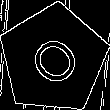O_SE: (20, 26, 87, 92)
